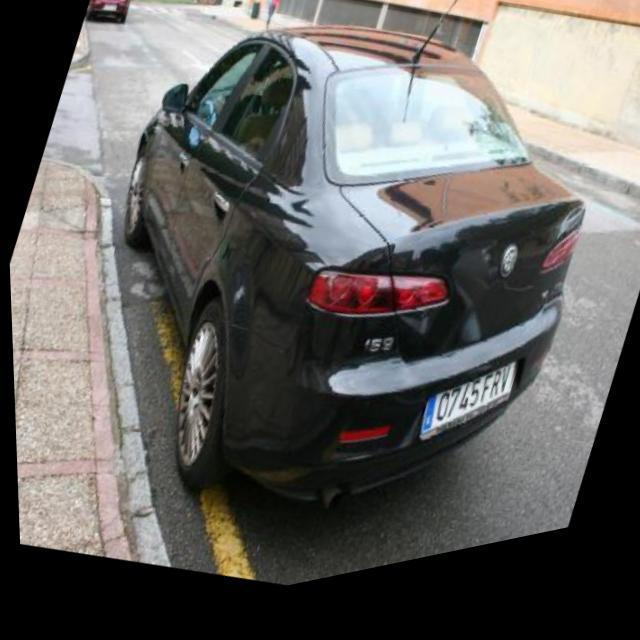license_plate: (408, 354, 518, 486), (102, 6, 118, 18)
